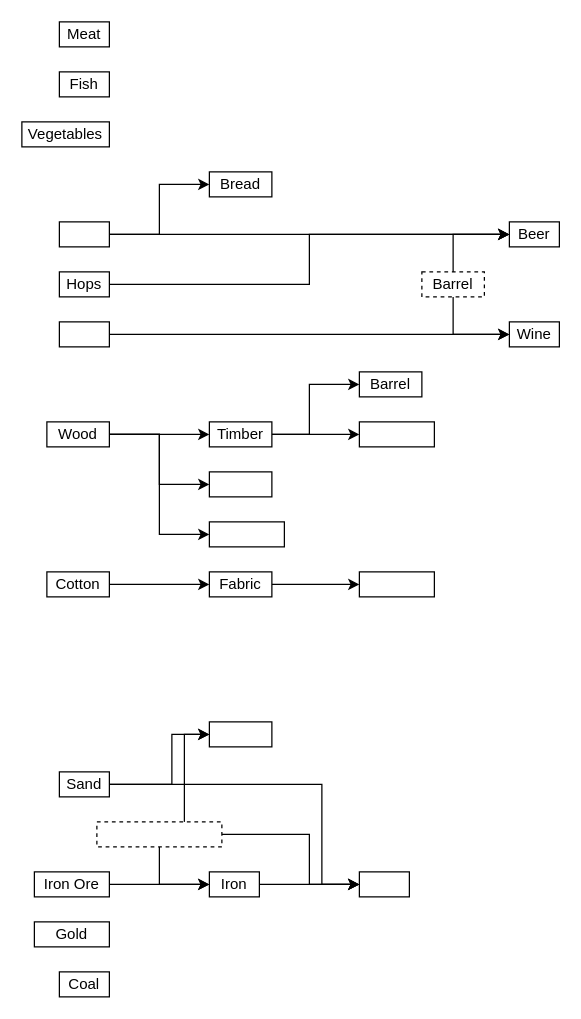
This 581x1019 diagram has some shape labels left out. The centre of each missing label's shape, as x and y in pixels:
"Charcoal" goes at point (246, 534).
"Clothes" goes at point (396, 584).
"Coal / Charcoal" goes at point (159, 834).
"Fruit" goes at point (83, 334).
"Furniture" goes at point (396, 434).
"Glass" goes at point (240, 734).
"Grain" goes at point (83, 234).
"Paper" goes at point (240, 484).
"Steel" goes at point (383, 884).
